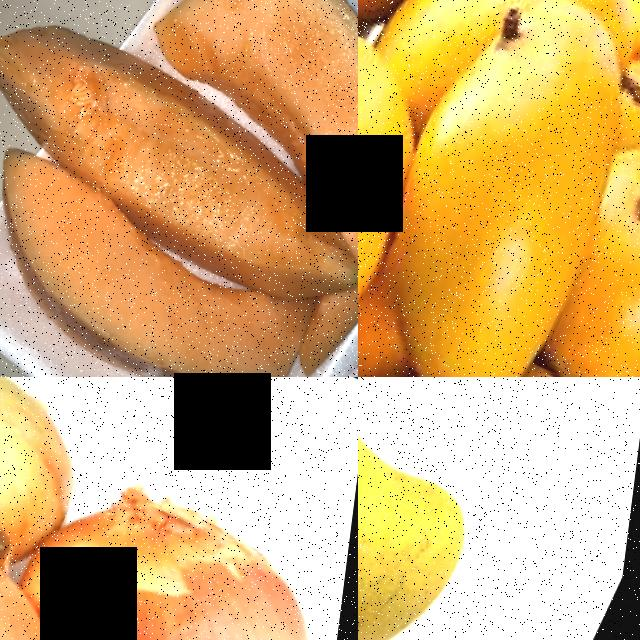mango: (358, 0, 640, 377), (358, 377, 530, 640), (358, 0, 476, 377)
melon: (61, 3, 358, 377), (165, 137, 358, 377), (268, 201, 358, 377)
onion: (24, 455, 358, 640), (0, 377, 120, 583)
